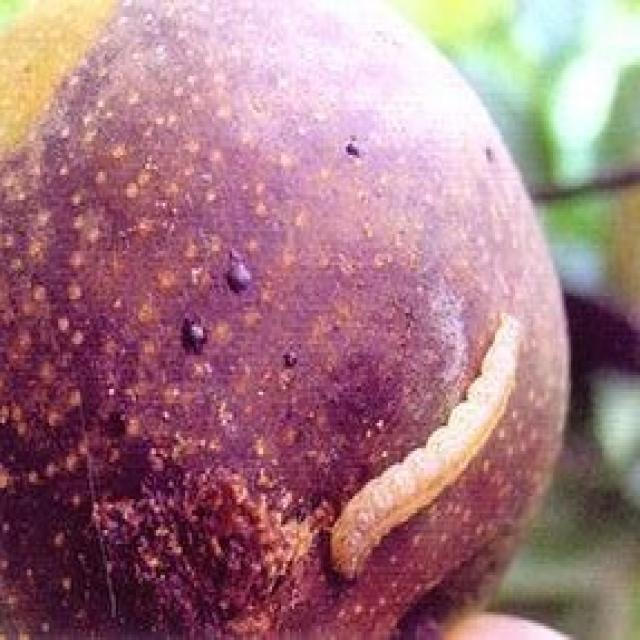peach borer: (320, 317, 529, 587)
